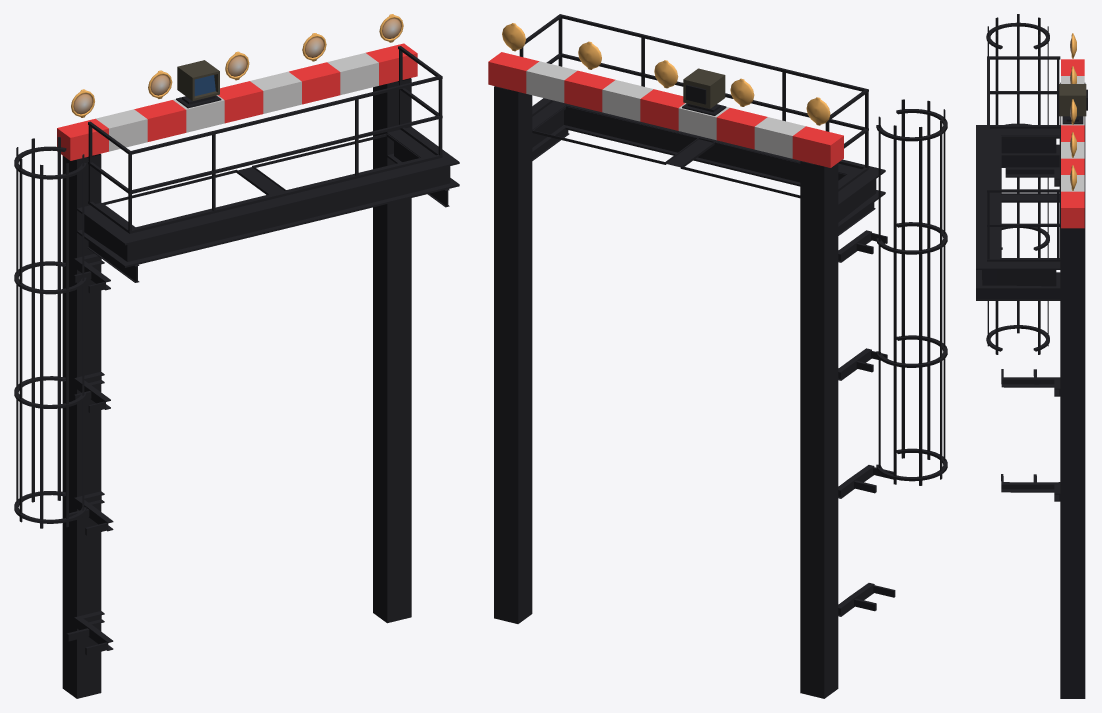
File: af_appr.glb
3 renders of one model, left to right at view 1: azimuth 30°, elevation 25°; view 2: azimuth 150°, elevation 25°; view 3: azimuth 270°, elevation 25°, orthographic. The views are drawn at different scales.
Parts seen in each view (by area): view 1: body|material, body|material_3, body|material_2, body|material_7, body|material_8, body|material_6; view 2: body|material, body|material_3, body|material_2, body|material_8, body|material_6; view 3: body|material, body|material_3, body|material_2, body|material_6, body|material_8.
Boxes of the visible parts, x1,y1,x2,y2 form: body|material: (14, 46, 459, 698); body|material_3: (57, 43, 417, 160); body|material_2: (96, 53, 378, 151); body|material_7: (73, 18, 401, 114); body|material_8: (71, 14, 403, 117); body|material_6: (177, 60, 219, 100); body|material: (494, 14, 947, 698); body|material_3: (488, 52, 843, 167); body|material_2: (526, 61, 805, 158); body|material_8: (502, 23, 830, 125); body|material_6: (683, 68, 725, 108); body|material: (976, 14, 1087, 698); body|material_3: (1061, 59, 1084, 228); body|material_2: (1061, 76, 1084, 191); body|material_6: (1059, 84, 1086, 116); body|material_8: (1071, 33, 1076, 190).
Bounding box in the file's own units: 4.54 × 6.16 × 1.18.
Materials: 7 (1 with a texture image).
